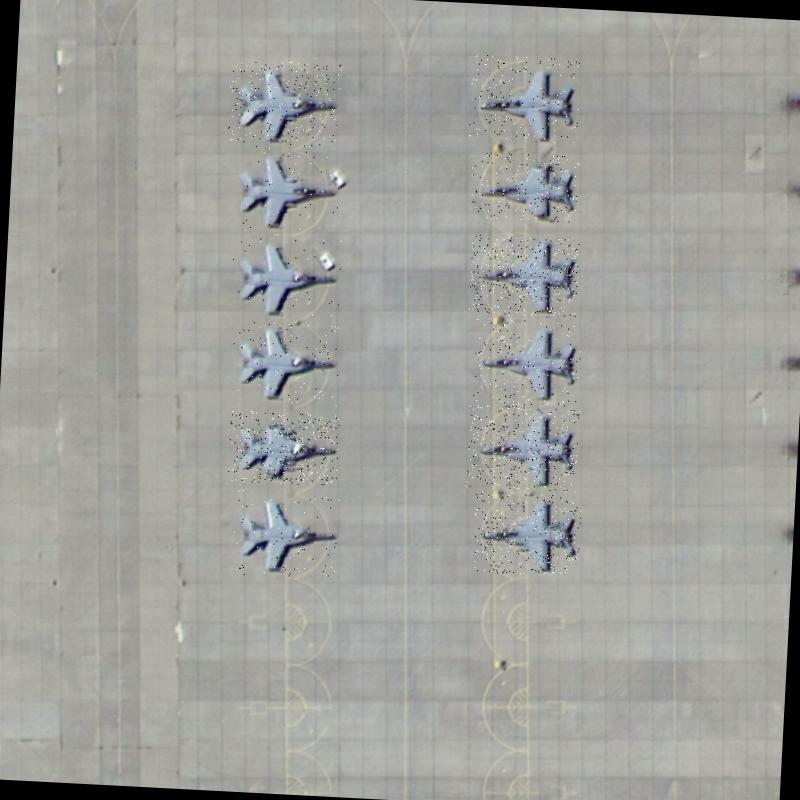A16: (233, 145, 345, 237), (228, 58, 342, 148), (466, 404, 581, 493), (228, 232, 342, 321), (469, 54, 581, 144), (232, 488, 341, 580), (473, 318, 582, 408), (230, 320, 340, 408), (472, 492, 582, 578), (469, 235, 580, 319), (226, 410, 340, 487), (470, 151, 580, 224)
